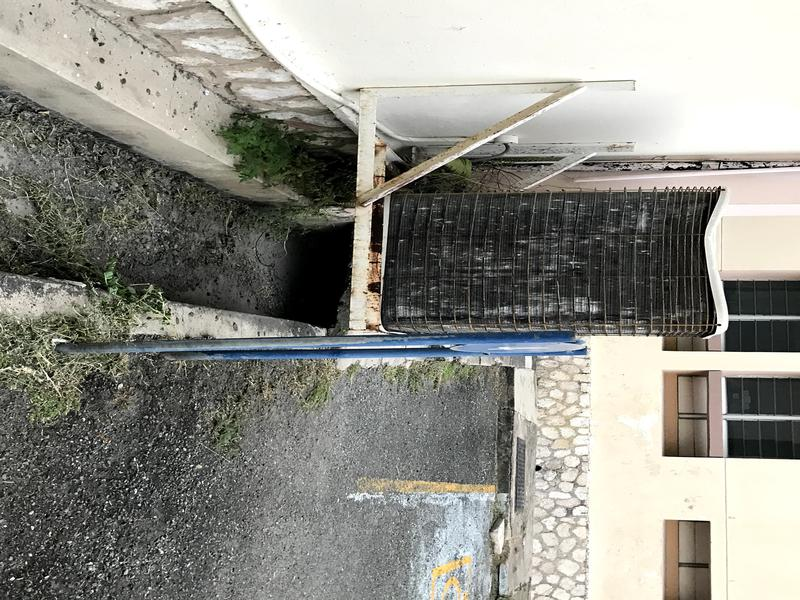18.0053530_-76.7490375_signatentrancetoscitech: (51, 305, 607, 398)
